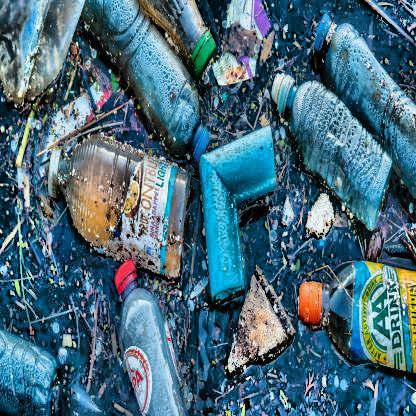Glass wastes: (296, 253, 415, 379)
Plastic wastes: (47, 135, 193, 284), (87, 0, 215, 159), (269, 77, 396, 232), (314, 11, 415, 189), (110, 258, 191, 415)
